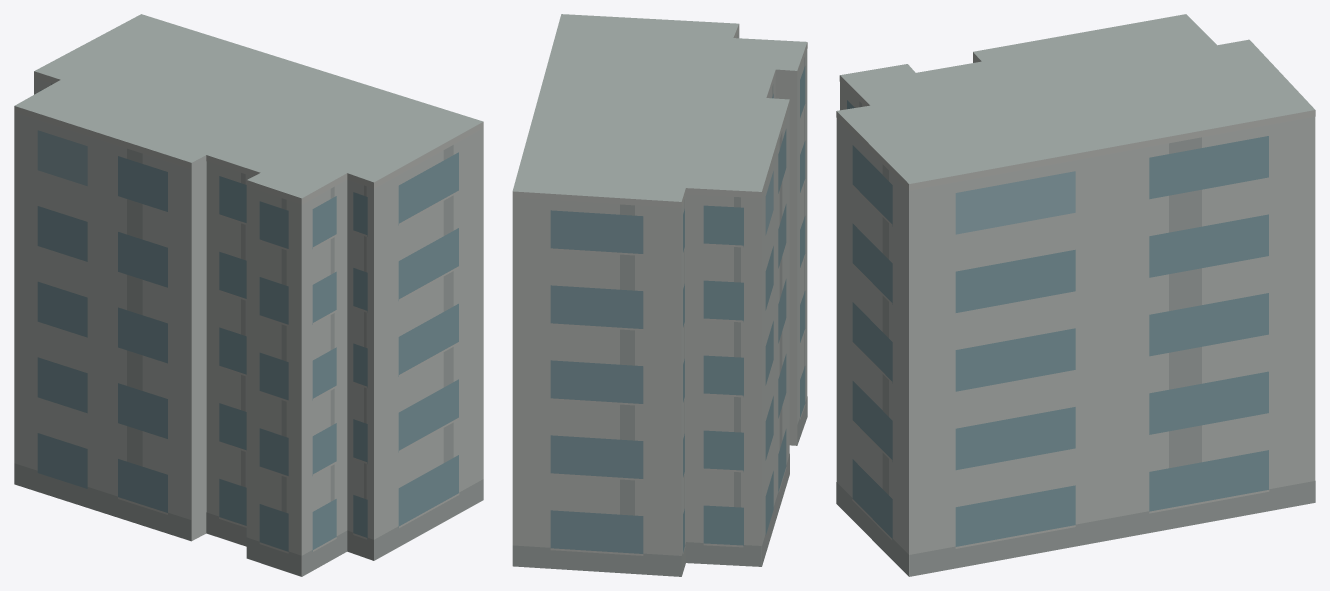
Rendered from survey-upis-32751698.glb.
The picture shows the model from 3 angles, left to right: view 1: azimuth 30°, elevation 25°; view 2: azimuth 150°, elevation 25°; view 3: azimuth 270°, elevation 25°; orthographic projection. The views are drawn at different scales.
Parts seen in each view (by area): view 1: survey-upis-32751698.tmp; view 2: survey-upis-32751698.tmp; view 3: survey-upis-32751698.tmp.
Part boxes in pixels (x1,y1,x2,y2): survey-upis-32751698.tmp: (14, 14, 483, 576); survey-upis-32751698.tmp: (512, 14, 807, 576); survey-upis-32751698.tmp: (836, 14, 1315, 576).
Size of the model in its own units: 13.38 by 14.4 by 15.93.
